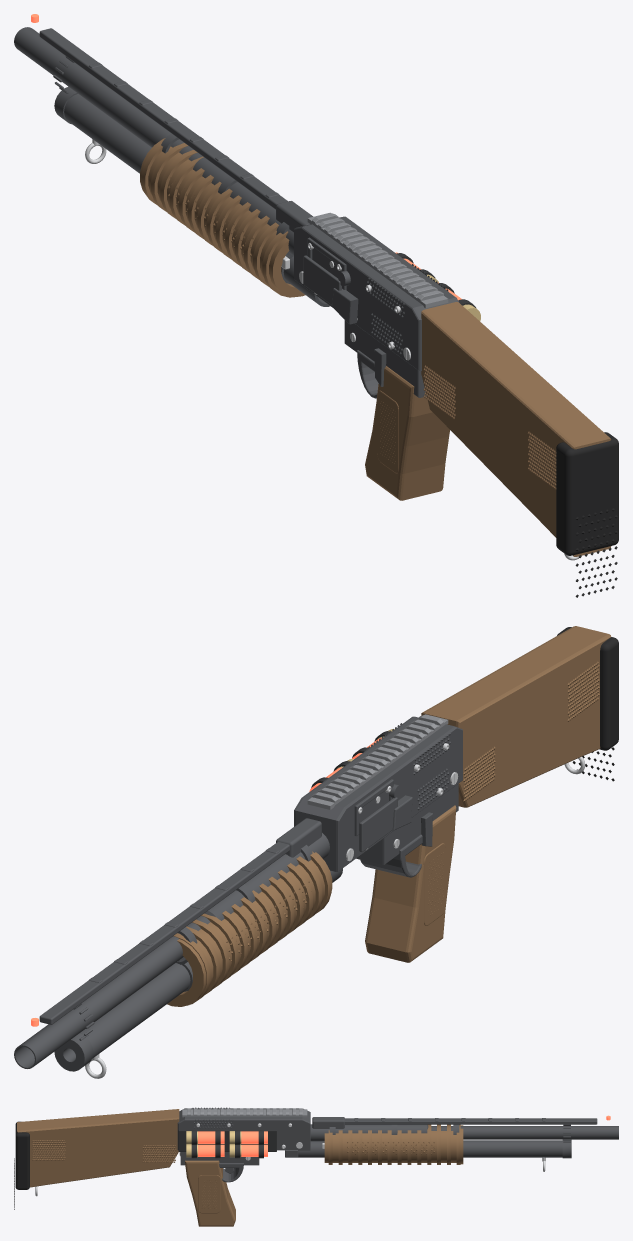
File: breacher.glb
3 views of the same model, one above another, from view 1: azimuth 30°, elevation 25°; view 2: azimuth 150°, elevation 25°; view 3: azimuth 270°, elevation 25° (orthographic). The views are drawn at different scales.
Visible parts, largest first — view 1: Receiver, Pump; view 2: Receiver, Pump; view 3: Receiver, Pump.
Boxes of the visible parts, x1=… form: Receiver: x1=14, y1=14, x2=618, y2=597; Pump: x1=140, y1=138, x2=312, y2=297; Receiver: x1=14, y1=626, x2=618, y2=1078; Pump: x1=167, y1=818, x2=332, y2=1006; Receiver: x1=14, y1=1107, x2=618, y2=1226; Pump: x1=312, y1=1117, x2=463, y2=1164.
Size of the model in its own units: 0.068 by 0.166 by 0.82.
